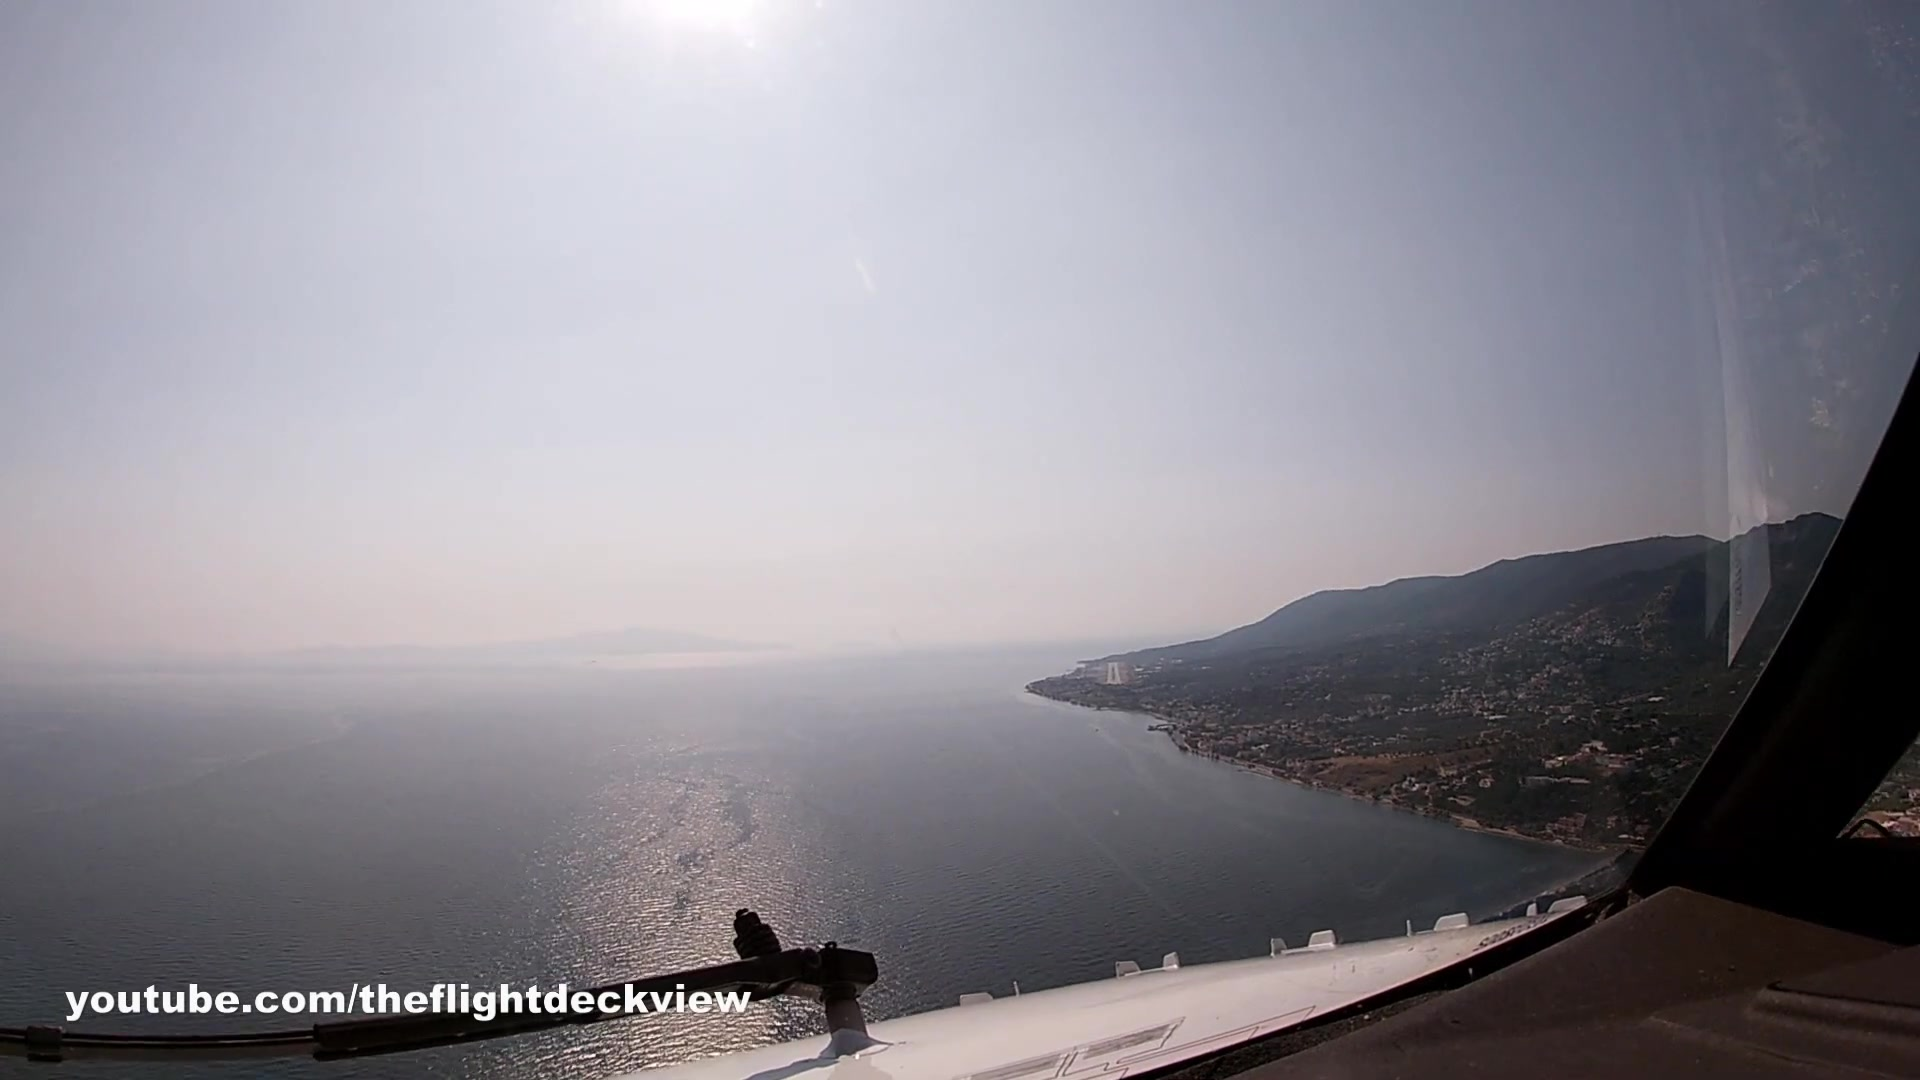runway: (1104, 659, 1122, 686)
